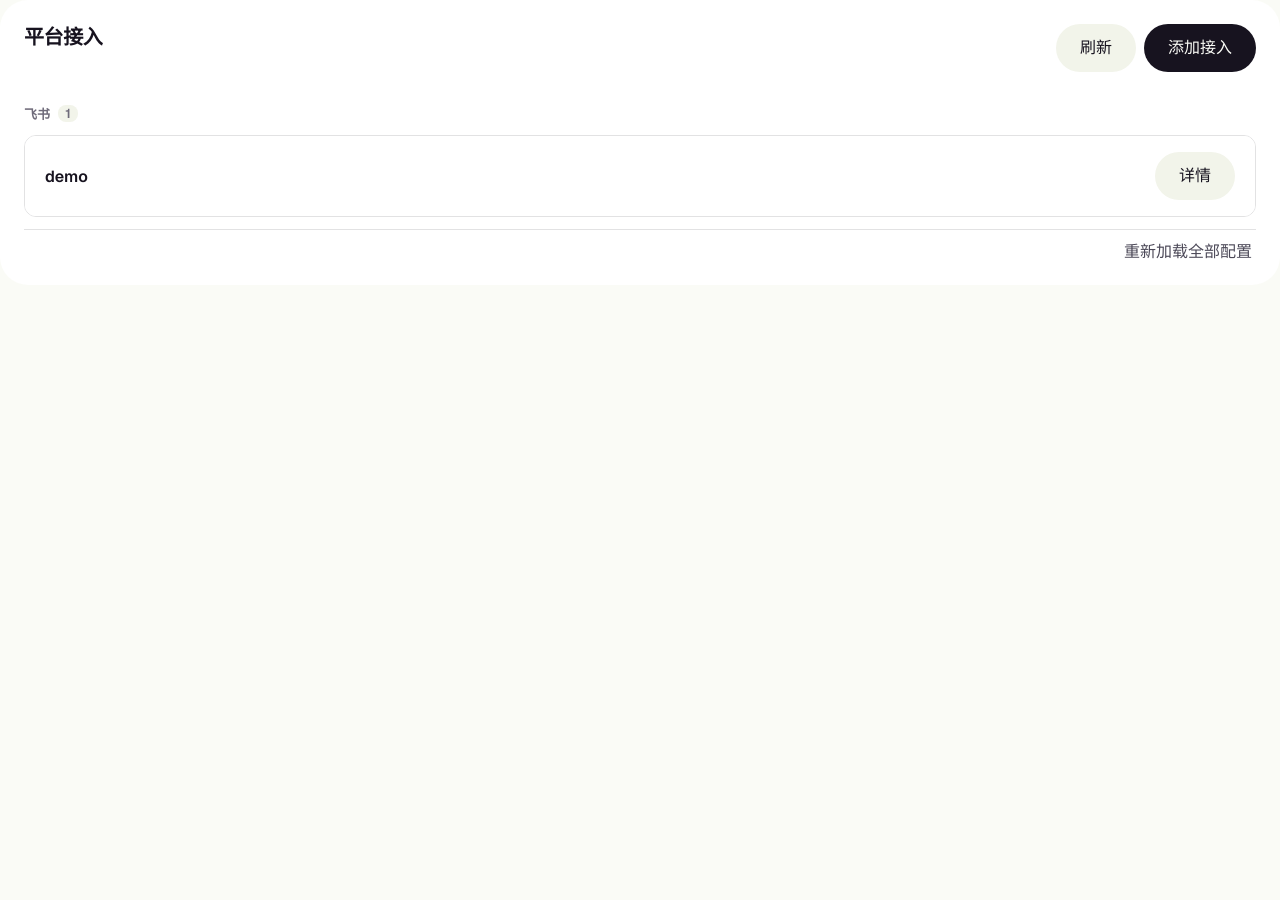
Test case: shows observed capability IDs and clears them when the next observation fails
Click the button "详情": (1195, 176) [1155, 152, 1235, 200]
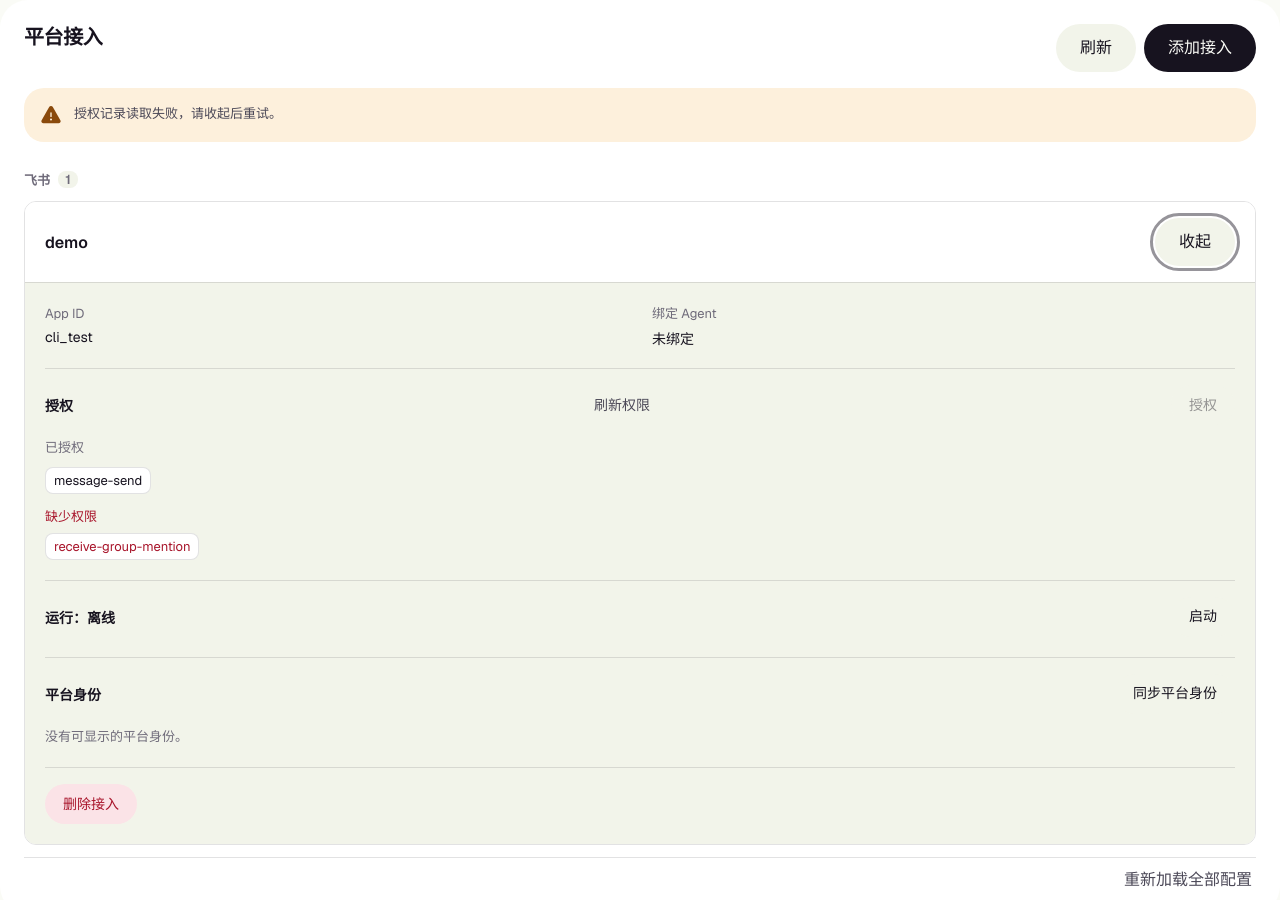
Expected: the list item "message-send" is shown, [45, 467, 151, 494]
Expected: the list item "receive-group-mention" is shown, [45, 533, 200, 560]
Expected: the text "cli_test" is shown, [45, 328, 93, 346]
Click the button "刷新权限": (622, 405) [590, 397, 654, 414]
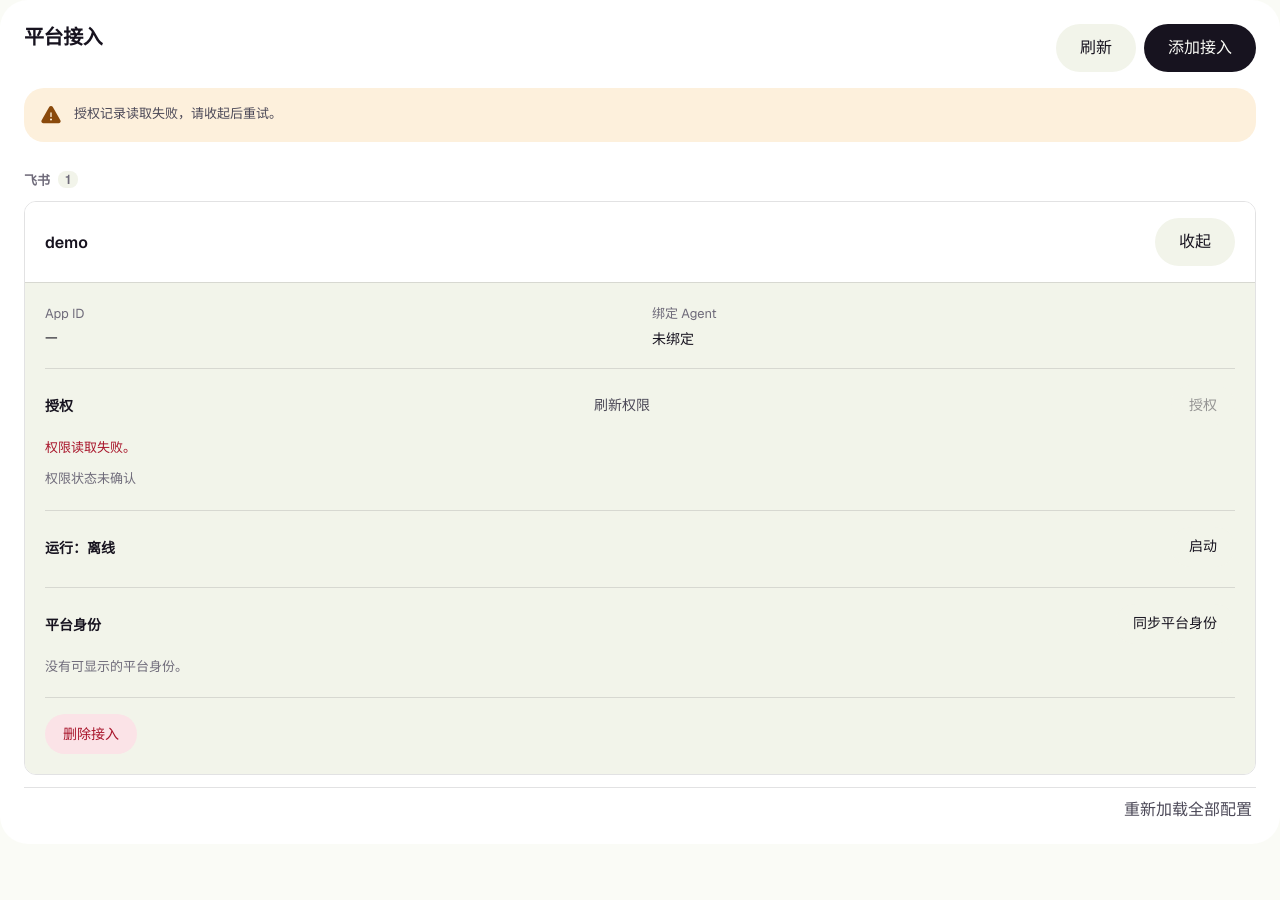
Expected: the text "权限读取失败。" is shown, [45, 439, 136, 456]
Expected: the list item "message-send" is gone
Expected: the list item "receive-group-mention" is gone
